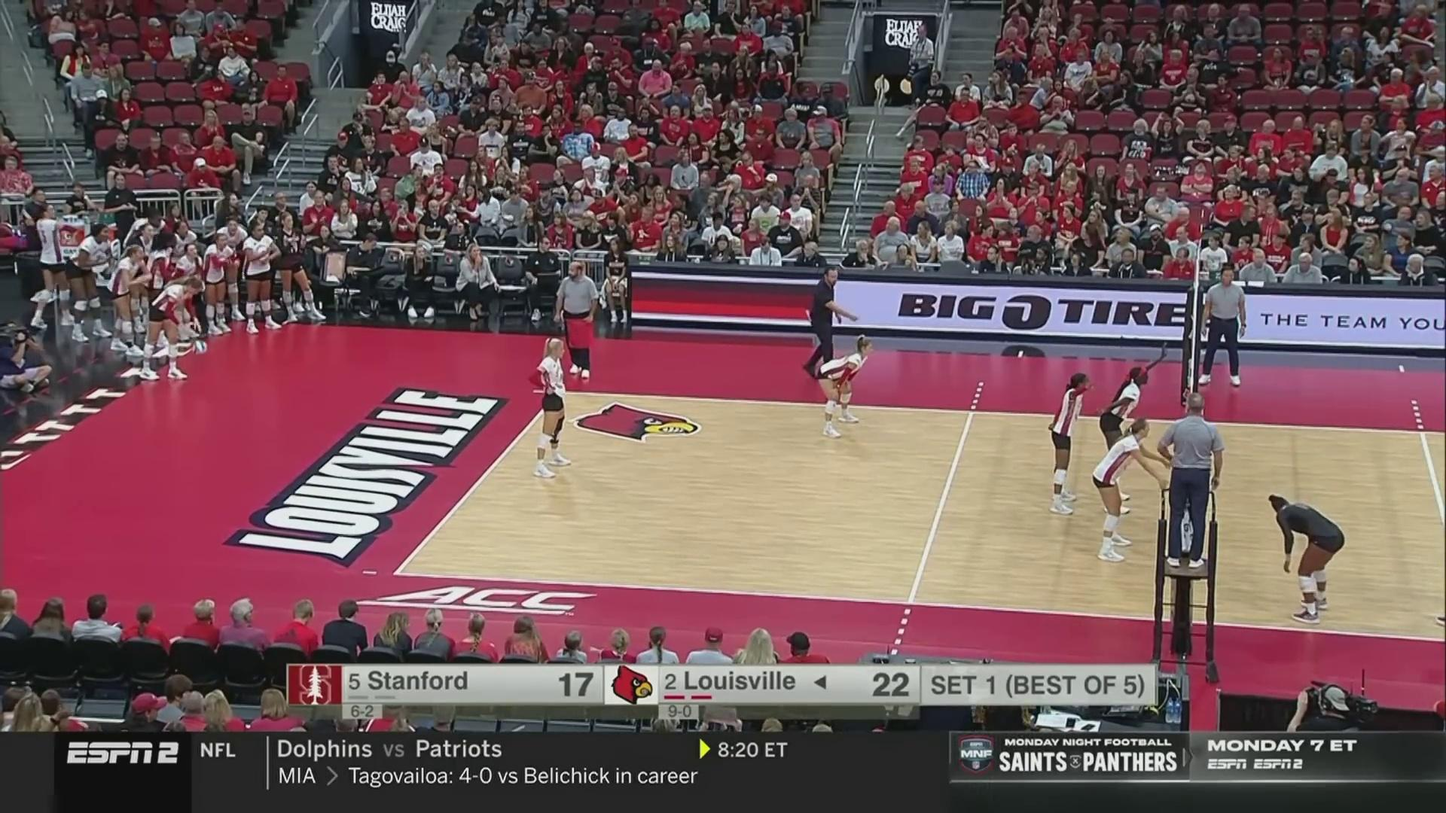player: (1100, 347, 1165, 513), (1269, 493, 1342, 624), (1095, 421, 1159, 562), (140, 280, 209, 382), (1045, 373, 1094, 513), (531, 338, 572, 477), (815, 338, 873, 436)
refree: (1160, 393, 1223, 567), (1200, 266, 1246, 385), (555, 263, 598, 379)
